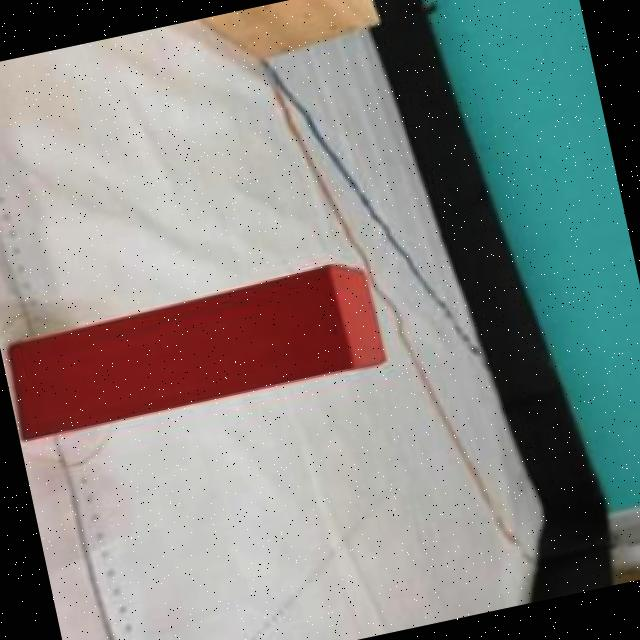redbox: (0, 255, 391, 445)
